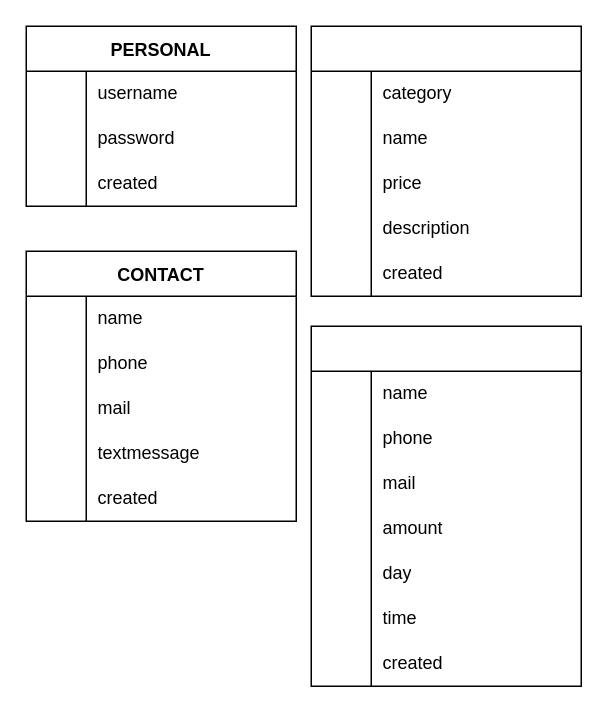
Some shapes in this 608 by 713 pixel diagram are drawn without their labels. The box of each missing label's shape, as (x1, y1, x2, y2) in pixels:
BOOKING: (310, 325, 581, 686)
MENY: (310, 25, 581, 296)
